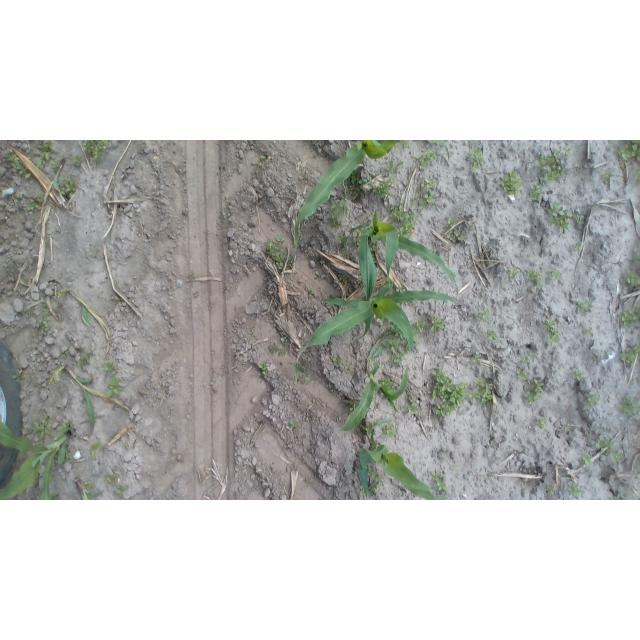Maize: (296, 234, 461, 386), (295, 141, 452, 244), (344, 209, 459, 299), (339, 329, 409, 431), (49, 365, 135, 446), (358, 420, 443, 500), (1, 420, 74, 501), (56, 288, 113, 355)
Weeds: (433, 368, 466, 419), (388, 204, 417, 234), (540, 148, 569, 177), (551, 204, 583, 230), (7, 154, 31, 181), (471, 378, 494, 405), (267, 238, 289, 266), (83, 140, 109, 161), (416, 178, 437, 204), (31, 417, 53, 439), (503, 172, 524, 195), (544, 317, 560, 347), (328, 197, 345, 225), (620, 141, 640, 164), (525, 379, 543, 402), (414, 150, 435, 169), (431, 471, 448, 494), (382, 160, 403, 178), (469, 147, 483, 173), (621, 305, 640, 323), (619, 395, 636, 414), (620, 346, 638, 363), (106, 378, 122, 397), (348, 173, 360, 198), (576, 295, 592, 313), (376, 180, 391, 199), (369, 468, 380, 492), (102, 359, 118, 375), (38, 143, 53, 159), (62, 179, 78, 194), (38, 319, 54, 334), (89, 443, 102, 461), (430, 317, 445, 332), (527, 270, 542, 285), (569, 484, 585, 498), (380, 425, 396, 438), (407, 397, 419, 414), (587, 391, 601, 405), (572, 367, 585, 382), (476, 308, 492, 320), (627, 272, 639, 288), (259, 362, 271, 377), (530, 184, 541, 200), (414, 318, 426, 332), (611, 450, 623, 463), (598, 437, 611, 449), (522, 350, 534, 363), (28, 196, 41, 208), (42, 303, 53, 317), (78, 355, 91, 366), (551, 270, 562, 283), (13, 371, 27, 381), (583, 453, 594, 465), (393, 326, 404, 338), (487, 328, 498, 340), (453, 228, 462, 242), (603, 171, 614, 182), (537, 416, 547, 428), (391, 353, 403, 363), (359, 175, 371, 185), (50, 161, 61, 170), (332, 354, 341, 364), (509, 267, 518, 277), (447, 218, 455, 229), (574, 241, 582, 252), (359, 485, 366, 497), (289, 422, 298, 431), (352, 230, 362, 238), (515, 370, 525, 378), (281, 337, 289, 346), (37, 160, 44, 169), (320, 256, 326, 265), (350, 404, 357, 411), (261, 154, 266, 160)
